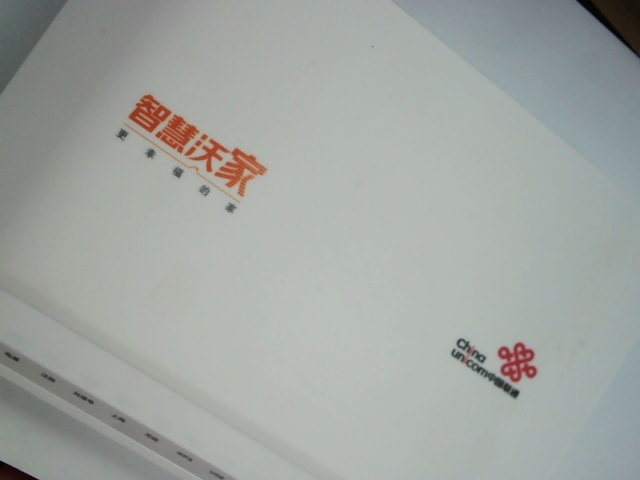ChinaUnicom1: (446, 327, 544, 406)
